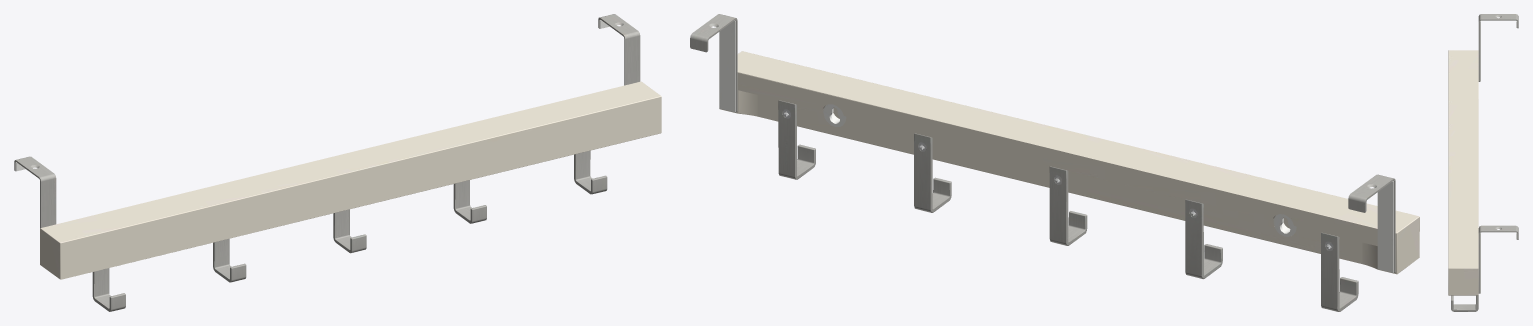
The model's file is tjusig_wieszak_na_drzwi_sciane_70242656.glb.
3 views of the same model, side by side, from view 1: azimuth 30°, elevation 25°; view 2: azimuth 150°, elevation 25°; view 3: azimuth 270°, elevation 25° (orthographic). The views are drawn at different scales.
Visible parts, largest first — view 1: tjusig_wieszak_na_drzwi_sciane_70242656; view 2: tjusig_wieszak_na_drzwi_sciane_70242656; view 3: tjusig_wieszak_na_drzwi_sciane_70242656.
Boxes of the visible parts, left/top/right/bottom form: tjusig_wieszak_na_drzwi_sciane_70242656: left=14, top=14, right=661, bottom=311; tjusig_wieszak_na_drzwi_sciane_70242656: left=690, top=14, right=1419, bottom=311; tjusig_wieszak_na_drzwi_sciane_70242656: left=1448, top=14, right=1518, bottom=311.
Bounding box in the file's own units: 0.595 × 0.1265 × 0.081.
1 material, 1 textured.
